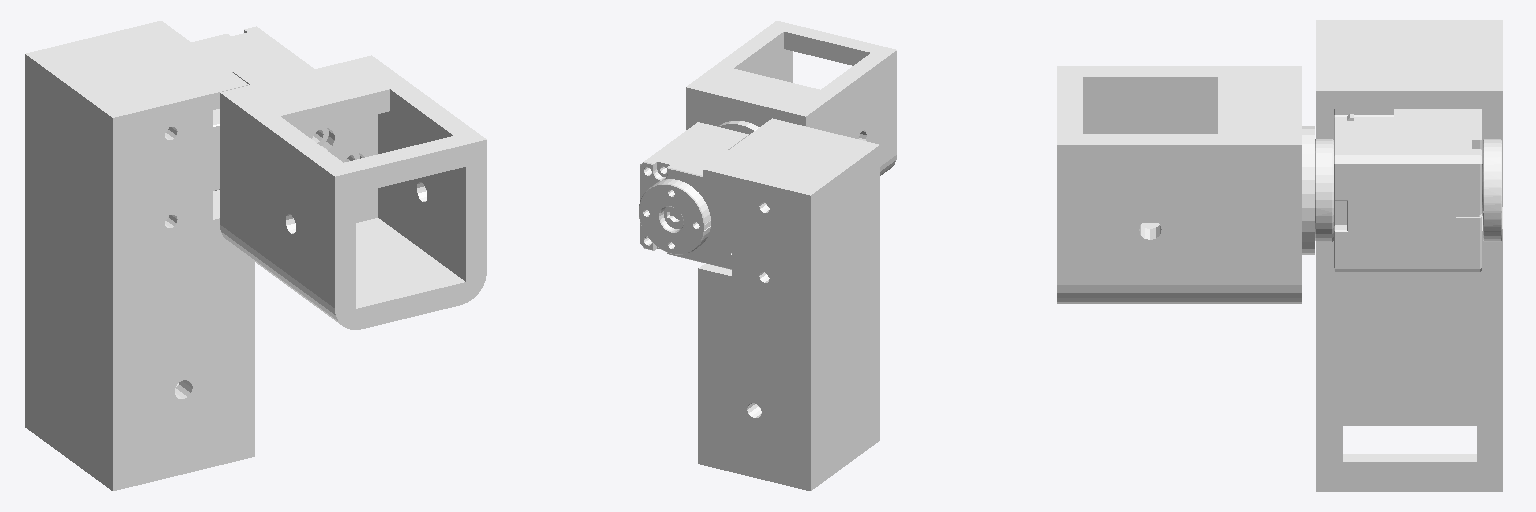
URDF robot description (330_joint):
<?xml version="1.0" encoding="utf-8"?>
<!-- This URDF was automatically created by SolidWorks to URDF Exporter! Originally created by [author] ([email redacted]) 
     Commit Version: 1.6.0-4-g7f85cfe  Build Version: 1.6.7995.38578
     For more information, please see http://wiki.ros.org/sw_urdf_exporter -->
<robot
  name="330_joint">
  <link
    name="base_link">
    <inertial>
      <origin
        xyz="0.0030419 1.9966E-05 0.012673"
        rpy="0 0 0" />
      <mass
        value="0.067407" />
      <inertia
        ixx="1.2854E-05"
        ixy="-2.668E-09"
        ixz="5.6649E-07"
        iyy="1.3347E-05"
        iyz="-8.403E-11"
        izz="6.139E-06" />
    </inertial>
    <visual>
      <origin
        xyz="0 0 0"
        rpy="0 0 0" />
      <geometry>
        <mesh
          filename="package://330_joint/meshes/base_link.STL" />
      </geometry>
      <material
        name="">
        <color
          rgba="1 1 1 1" />
      </material>
    </visual>
    <collision>
      <origin
        xyz="0 0 0"
        rpy="0 0 0" />
      <geometry>
        <mesh
          filename="package://330_joint/meshes/base_link.STL" />
      </geometry>
    </collision>
  </link>
  <link
    name="Adaptor_Link">
    <inertial>
      <origin
        xyz="0 0.000962217084485531 0.0167038367716975"
        rpy="0 0 0" />
      <mass
        value="0.0172446569319253" />
      <inertia
        ixx="3.81996295093174E-06"
        ixy="3.08349257978459E-22"
        ixz="1.23753267555244E-22"
        iyy="4.03700901328837E-06"
        iyz="-1.70511681168816E-07"
        izz="3.04173251340529E-06" />
    </inertial>
    <visual>
      <origin
        xyz="0 0 0"
        rpy="0 0 0" />
      <geometry>
        <mesh
          filename="package://330_joint/meshes/Adaptor_Link.STL" />
      </geometry>
      <material
        name="">
        <color
          rgba="1 1 1 1" />
      </material>
    </visual>
    <collision>
      <origin
        xyz="0 0 0"
        rpy="0 0 0" />
      <geometry>
        <mesh
          filename="package://330_joint/meshes/Adaptor_Link.STL" />
      </geometry>
    </collision>
  </link>
  <joint
    name="Adaptor_joint"
    type="continuous">
    <origin
      xyz="0.0201000000000003 -0.0147 0.0245999999999999"
      rpy="-1.5707963267949 0 3.14159265358979" />
    <parent
      link="base_link" />
    <child
      link="Adaptor_Link" />
    <axis
      xyz="0 0 -1" />
  </joint>
</robot>

--- What the picture shows (computed from the rendered views, not written in the file) ---
3 views of the same robot in one strip: view 1: azimuth 30°, elevation 25°; view 2: azimuth 150°, elevation 25°; view 3: azimuth 270°, elevation 25° (orthographic).
Model 330_joint with 2 links and 1 joints (1 continuous), rooted at base_link, posed every joint at zero.
Links seen in each view (by area): view 1: base_link, Adaptor_Link; view 2: base_link, Adaptor_Link; view 3: base_link, Adaptor_Link.
Link boxes in pixels (box(x1,y1,x2,y2)): base_link: box(25, 21, 313, 490); Adaptor_Link: box(220, 55, 486, 329); base_link: box(639, 118, 879, 490); Adaptor_Link: box(686, 21, 896, 175); base_link: box(1315, 20, 1502, 491); Adaptor_Link: box(1057, 66, 1314, 303).
Bounding box of the posed robot: 0.0481 × 0.0692 × 0.0691 m (x, y, z).
Meshes: 2 distinct files referenced, 2 mesh visuals loaded (2 binary STL).
